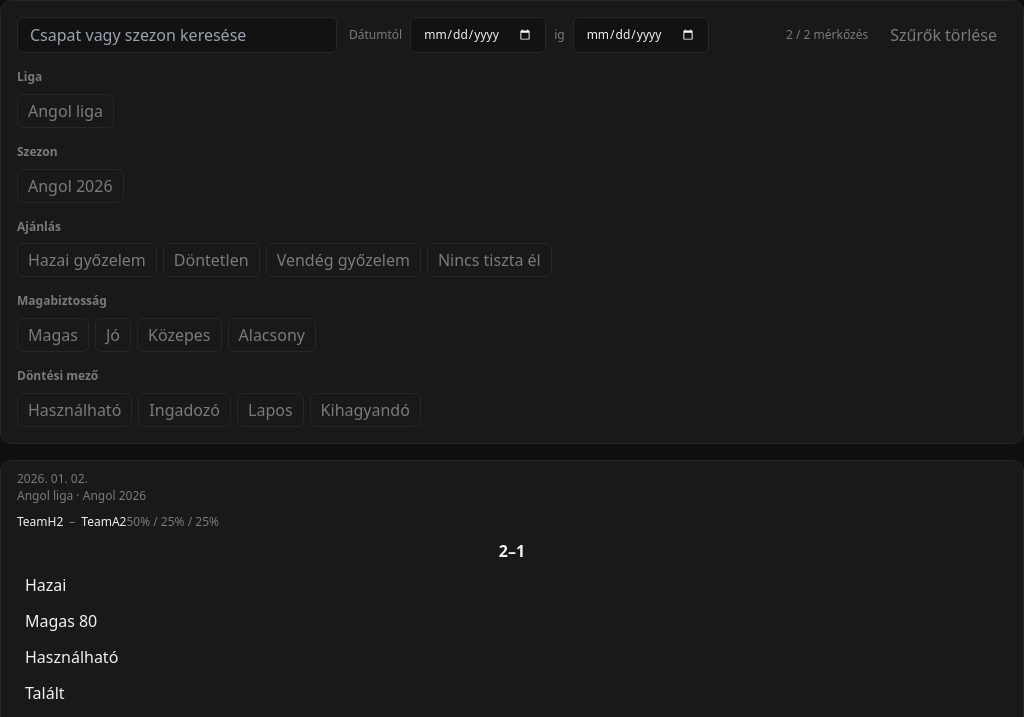
Test: MatchesPanel › shows the empty state when no matches match the filters
Type "NonExistentTeam" into the field with placeholder "Csapat vagy szezon keresése" at (177, 35), box x1=17 y1=17 x2=337 y2=53
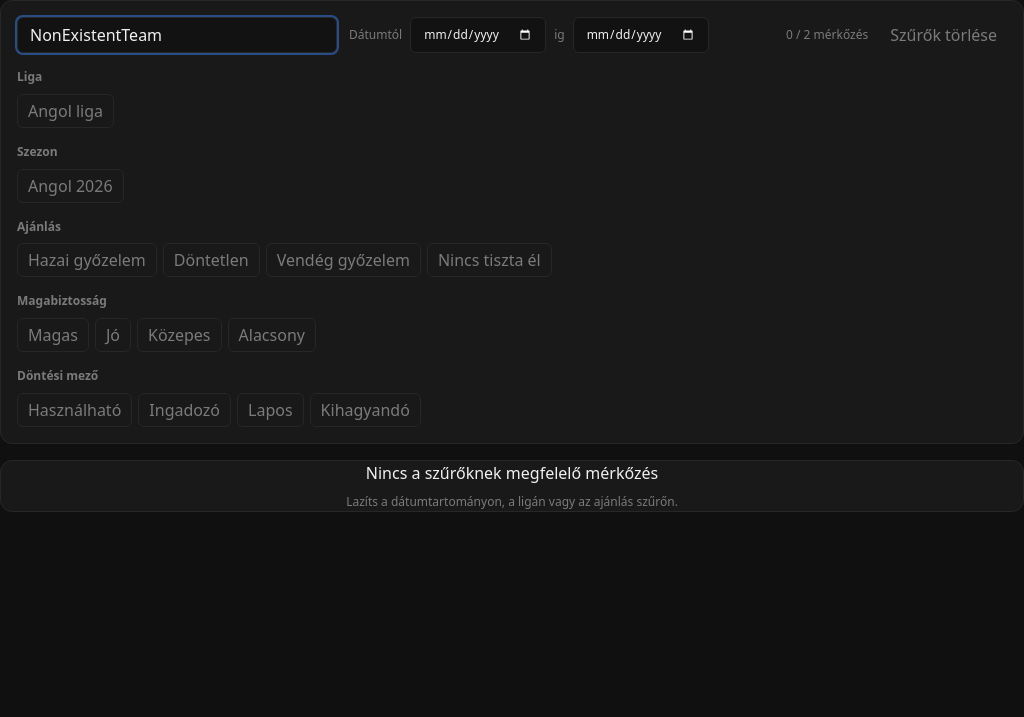
Expected: the text "Nincs a szűrőknek megfelelő mérkőzés" is shown, x1=366 y1=462 x2=658 y2=484
